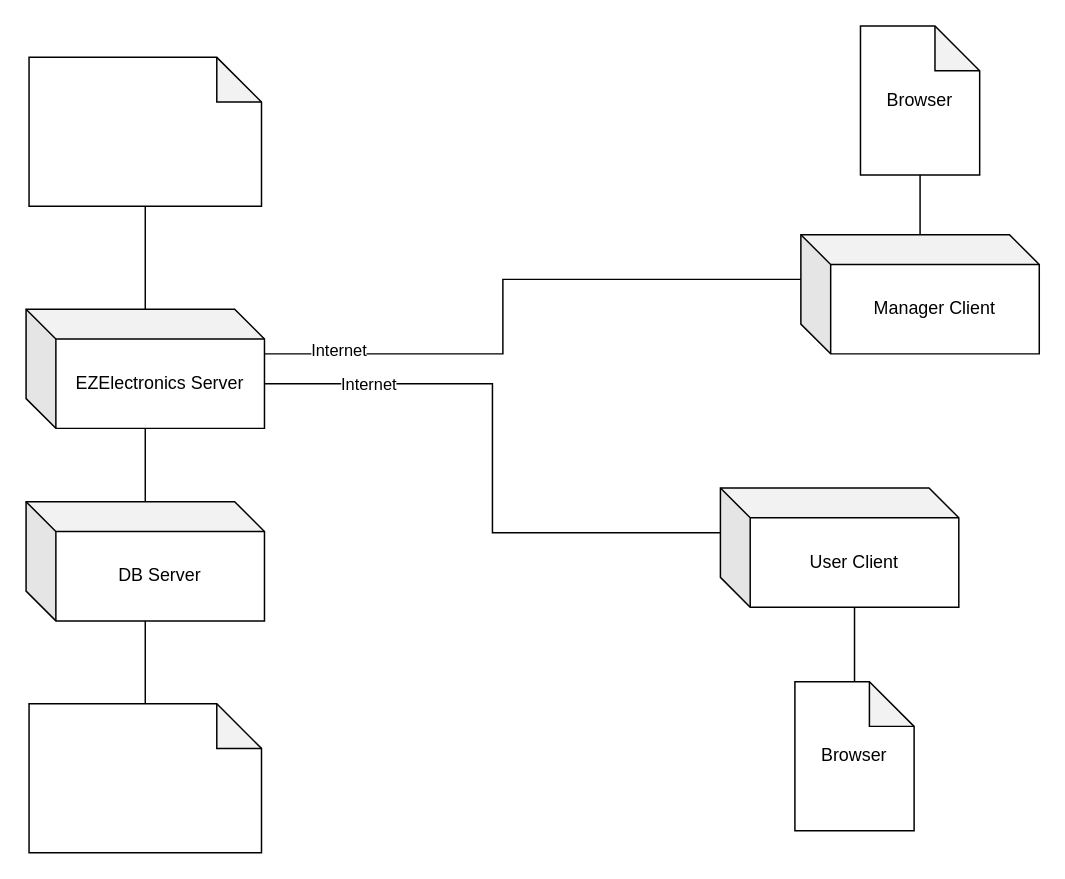
This 1065x879 diagram has some shape labels left out. Each missing label, with the centre of its shape:
EZElectronics Web App: the point at 144,131
sqlite Server: the point at 144,777
